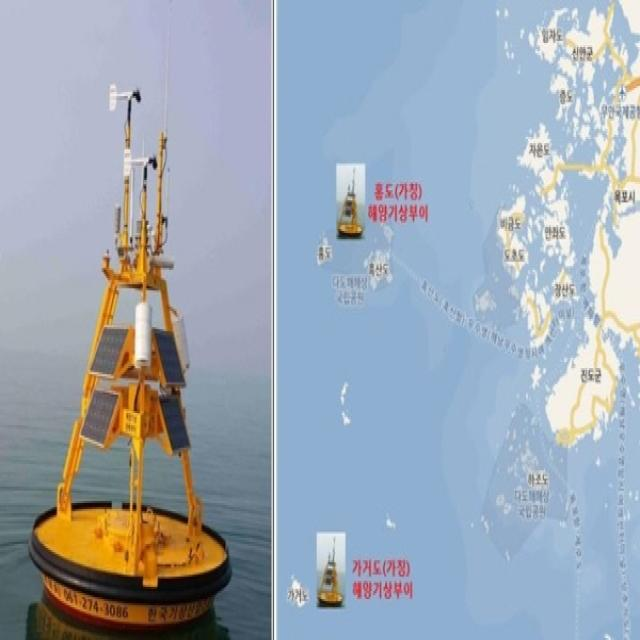buoy: (29, 50, 240, 628)
